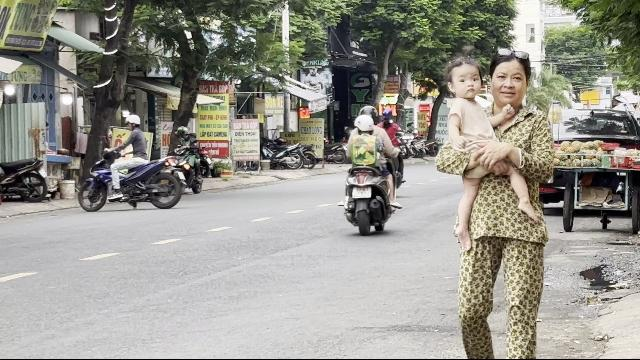helmet: (358, 105, 378, 127), (355, 114, 375, 134), (124, 113, 140, 129)
licenseplate: (352, 185, 372, 198)
motorcyclist: (75, 112, 189, 214), (339, 104, 403, 234)
